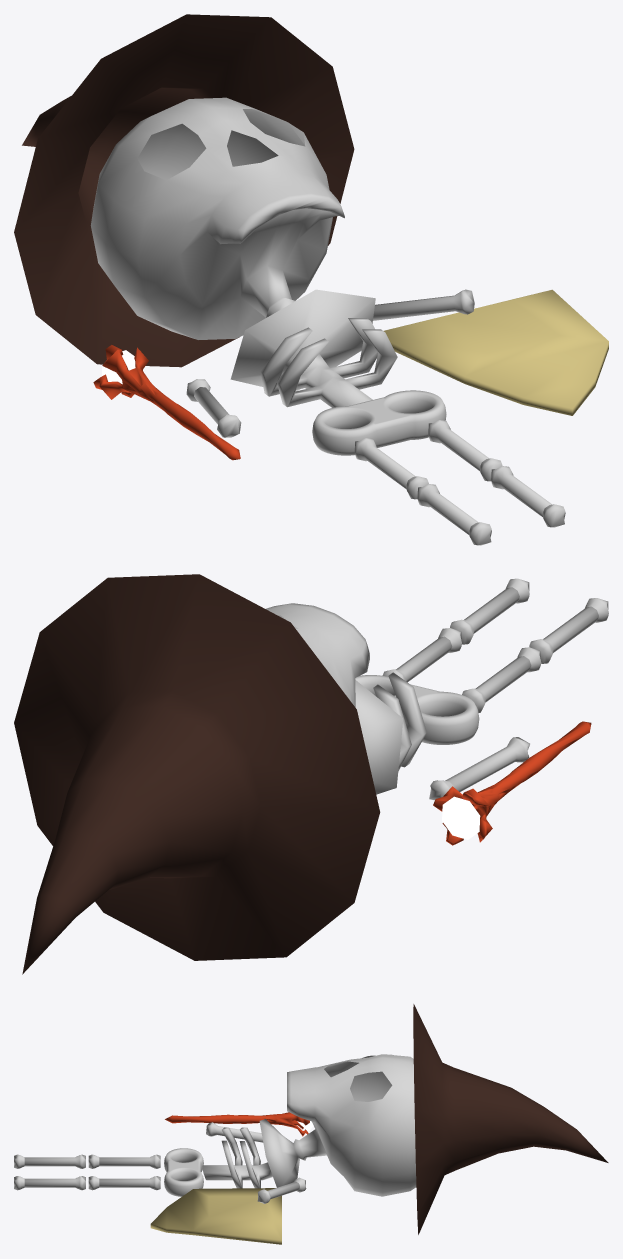
The model's file is osso_caveira_mago.fbx.
3 views of the same model, one above another, from view 1: azimuth 30°, elevation 25°; view 2: azimuth 150°, elevation 25°; view 3: azimuth 270°, elevation 25° (orthographic). The views are drawn at different scales.
Parts seen in each view (by area): view 1: Hip; view 2: Hip; view 3: Hip.
Part boxes in pixels (bbox=[...]): Hip: bbox=[14, 14, 608, 545]; Hip: bbox=[14, 574, 608, 974]; Hip: bbox=[14, 1004, 608, 1244].
Bounding box in the file's own units: 5619 × 4392 × 11191.
